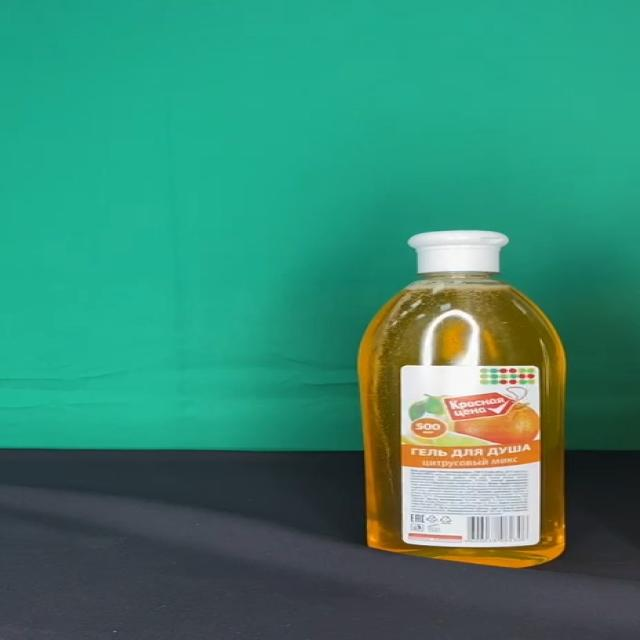Bottle: (358, 231, 566, 568)
Cap: (408, 231, 510, 272)
